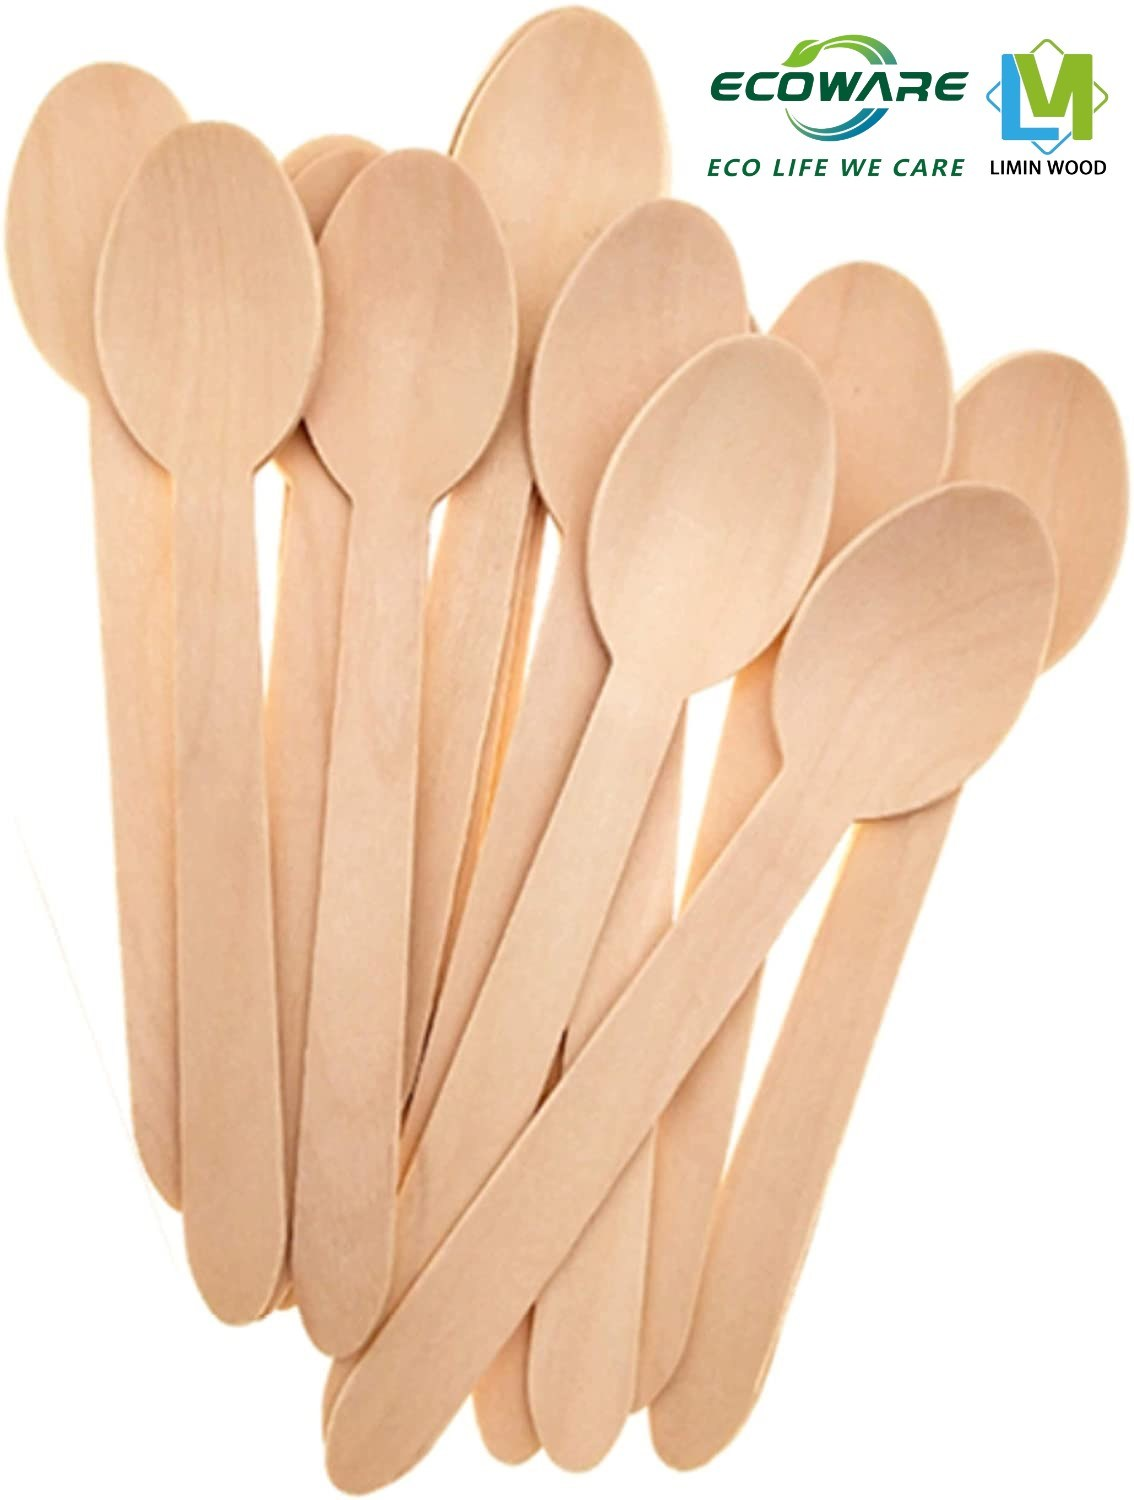Wooden Utensils: (51, 57, 999, 1403)
